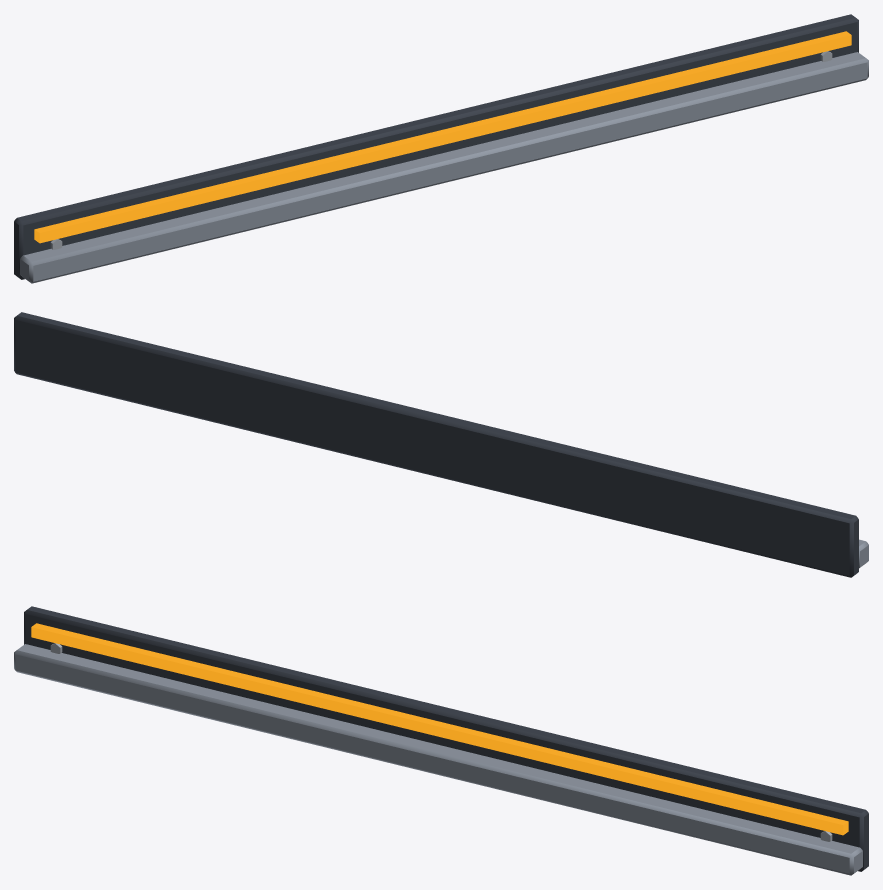
The model's file is striplight_baseboard_glow.glb.
3 renders of one model, top to bottom at view 1: azimuth 30°, elevation 25°; view 2: azimuth 150°, elevation 25°; view 3: azimuth 330°, elevation 25°, orthographic.
Parts seen in each view (by area): view 1: striplight_baseboard_glow; view 2: striplight_baseboard_glow; view 3: striplight_baseboard_glow.
Part boxes in pixels (x1,y1,x2,y2): striplight_baseboard_glow: [14, 14, 868, 283]; striplight_baseboard_glow: [14, 312, 868, 577]; striplight_baseboard_glow: [14, 606, 868, 875].
Bounding box in the file's own units: 1.2 × 0.08 × 0.045.
